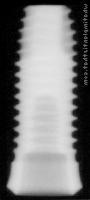Osstem Implant: (7, 5, 83, 196)
